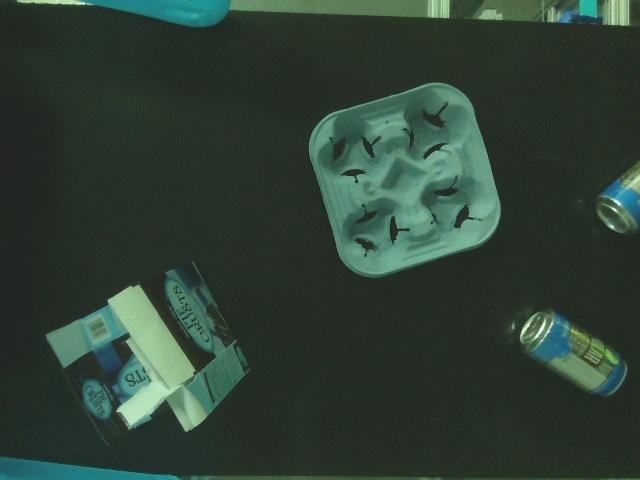cardboard: (42, 256, 254, 450), (305, 79, 504, 280)
metal: (518, 310, 628, 401), (596, 156, 640, 239)
